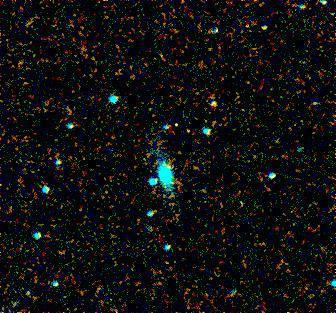star: (163, 111, 193, 141)
